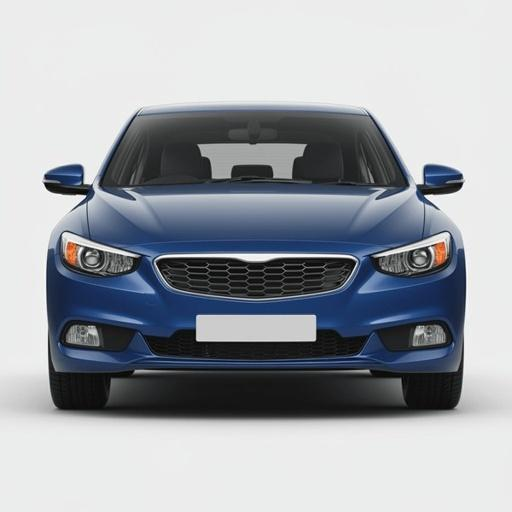sedan: (44, 103, 463, 408)
